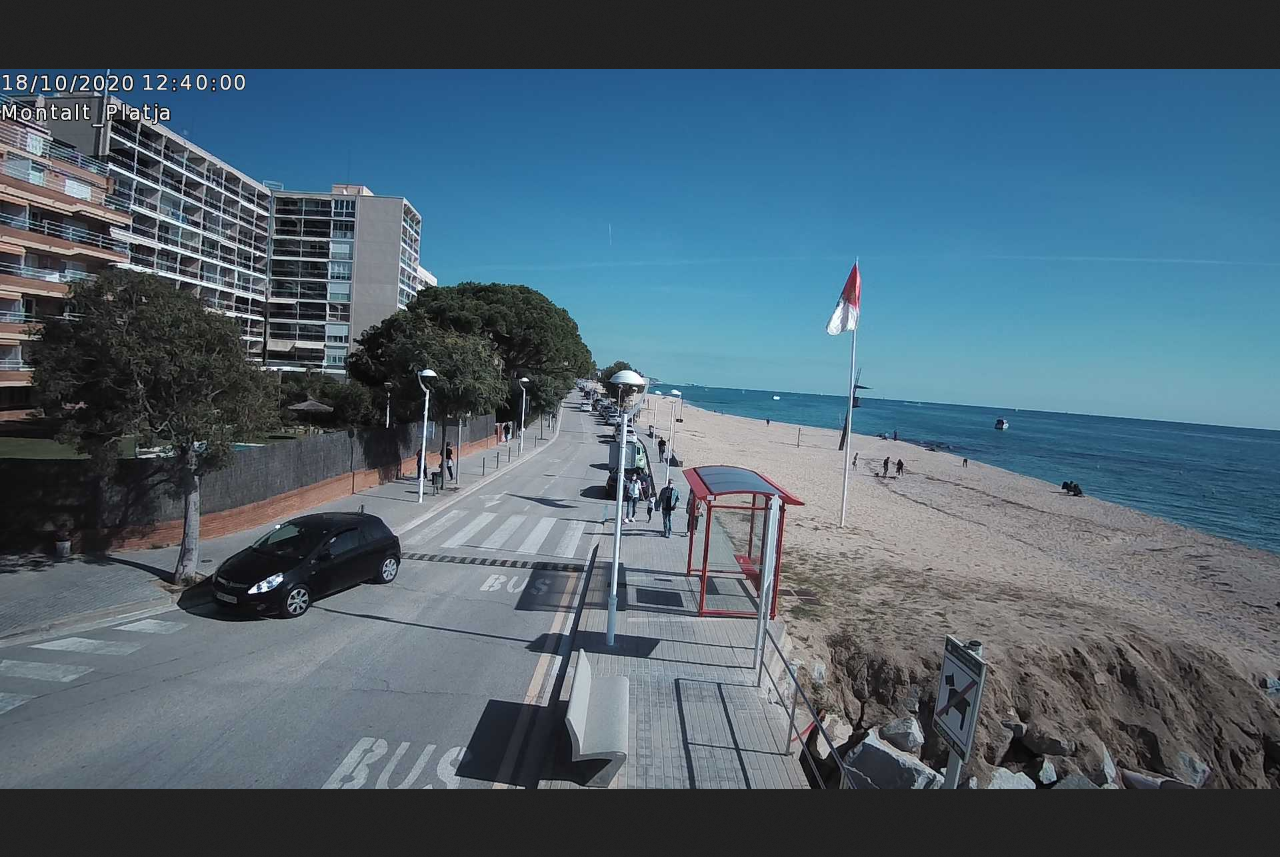no: (827, 264, 864, 339)
